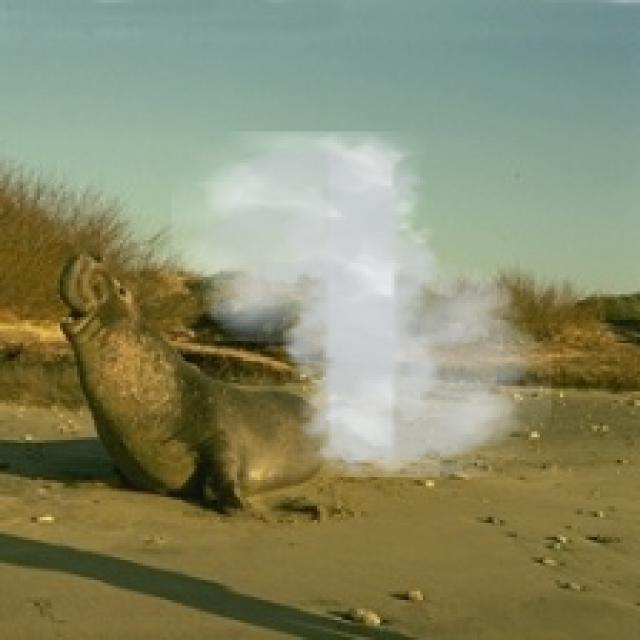smoke: (172, 132, 552, 477)
